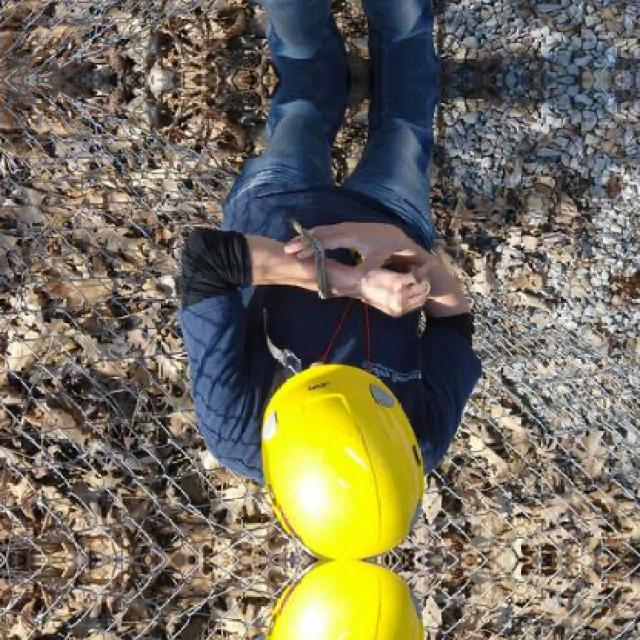con casco: (241, 335, 448, 561)
